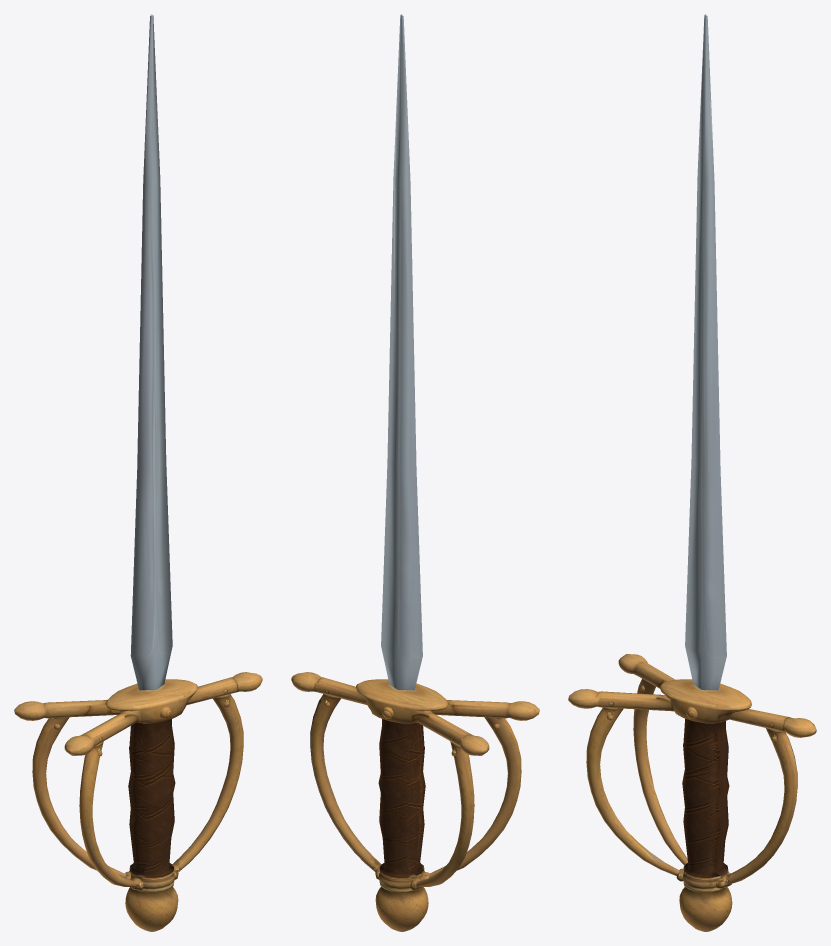
Rendered from rapier.glb.
The picture shows the model from 3 angles, left to right: view 1: azimuth 30°, elevation 25°; view 2: azimuth 150°, elevation 25°; view 3: azimuth 330°, elevation 25°; orthographic projection.
Parts seen in each view (by area): view 1: tripo_node_43bbae3e-227e-405e-b827-8e2eafb85e0a; view 2: tripo_node_43bbae3e-227e-405e-b827-8e2eafb85e0a; view 3: tripo_node_43bbae3e-227e-405e-b827-8e2eafb85e0a.
Part boxes in pixels (left/top/right/bottom): tripo_node_43bbae3e-227e-405e-b827-8e2eafb85e0a: left=14, top=14, right=262, bottom=931; tripo_node_43bbae3e-227e-405e-b827-8e2eafb85e0a: left=291, top=14, right=539, bottom=931; tripo_node_43bbae3e-227e-405e-b827-8e2eafb85e0a: left=568, top=14, right=816, bottom=931.
Size of the model in its own units: 0.2515 by 0.9995 by 0.1206.
Materials: 1 (1 with a texture image).
